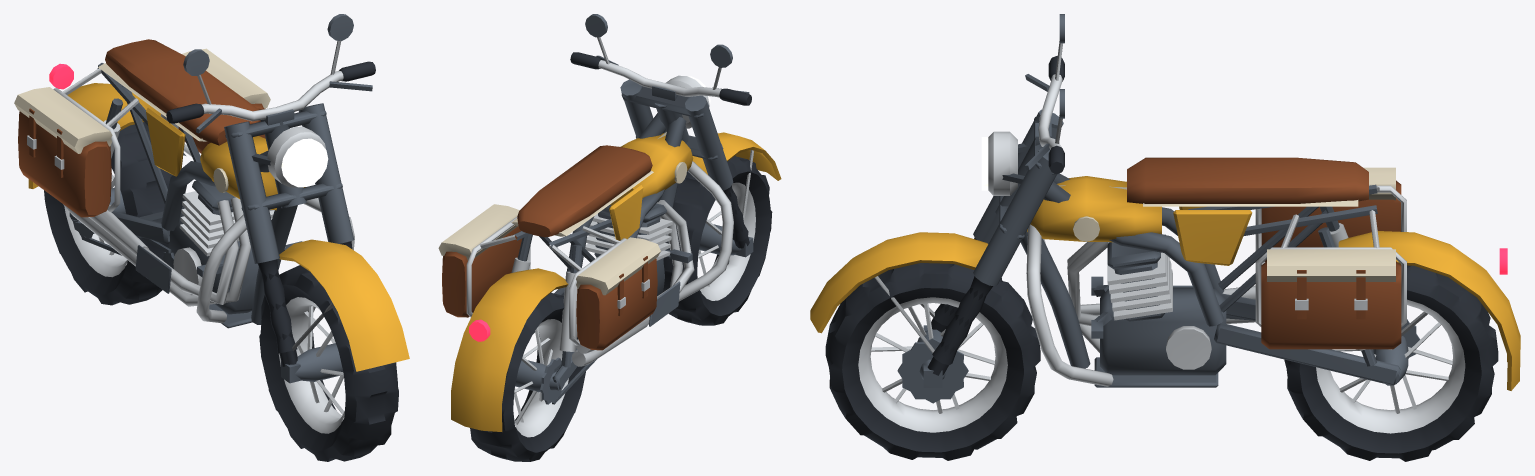
Rendered from moto-scrambler.glb.
3 renders of one model, left to right at view 1: azimuth 30°, elevation 25°; view 2: azimuth 150°, elevation 25°; view 3: azimuth 270°, elevation 25°, orthographic. The views are drawn at different scales.
Parts seen in each view (by area): view 1: Scrambler Gunmetal, Scrambler Chrome alloy, Scrambler Reef gold, Scrambler Saddle leather, Front wheel Trail rubber, Rear wheel Trail rubber, Scrambler Rally ivory, Front wheel Chrome alloy, Scrambler Trail rubber, Scrambler Headlamp glow, Rear wheel Chrome alloy, Front wheel Gunmetal (+2 smaller); view 2: Scrambler Saddle leather, Scrambler Reef gold, Scrambler Gunmetal, Scrambler Chrome alloy, Front wheel Trail rubber, Rear wheel Trail rubber, Scrambler Rally ivory, Rear wheel Chrome alloy, Front wheel Chrome alloy, Scrambler Trail rubber, Rear wheel Gunmetal, Front wheel Gunmetal (+1 smaller); view 3: Scrambler Gunmetal, Scrambler Saddle leather, Scrambler Reef gold, Front wheel Trail rubber, Scrambler Chrome alloy, Rear wheel Trail rubber, Front wheel Chrome alloy, Scrambler Rally ivory, Rear wheel Chrome alloy, Scrambler Trail rubber, Front wheel Gunmetal, Rear wheel Gunmetal.
Part boxes in pixels (x1=…): Scrambler Gunmetal: x1=70, y1=14, x2=372, y2=383; Scrambler Chrome alloy: x1=27, y1=40, x2=354, y2=351; Scrambler Reef gold: x1=28, y1=83, x2=409, y2=371; Scrambler Saddle leather: x1=18, y1=39, x2=265, y2=217; Front wheel Trail rubber: x1=259, y1=265, x2=398, y2=461; Rear wheel Trail rubber: x1=44, y1=122, x2=182, y2=305; Scrambler Rally ivory: x1=14, y1=48, x2=270, y2=192; Front wheel Chrome alloy: x1=278, y1=297, x2=344, y2=433; Scrambler Trail rubber: x1=166, y1=61, x2=375, y2=366; Scrambler Headlamp glow: x1=281, y1=138, x2=328, y2=187; Rear wheel Chrome alloy: x1=64, y1=174, x2=127, y2=277; Front wheel Gunmetal: x1=295, y1=343, x2=343, y2=381; Scrambler Saddle leather: x1=442, y1=145, x2=657, y2=350; Scrambler Reef gold: x1=451, y1=132, x2=781, y2=431; Scrambler Gunmetal: x1=512, y1=14, x2=753, y2=404; Scrambler Chrome alloy: x1=466, y1=37, x2=753, y2=366; Front wheel Trail rubber: x1=663, y1=155, x2=772, y2=325; Rear wheel Trail rubber: x1=470, y1=292, x2=585, y2=461; Scrambler Rally ivory: x1=438, y1=132, x2=687, y2=295; Rear wheel Chrome alloy: x1=514, y1=319, x2=568, y2=437; Front wheel Chrome alloy: x1=698, y1=182, x2=755, y2=300; Scrambler Trail rubber: x1=570, y1=52, x2=751, y2=248; Rear wheel Gunmetal: x1=515, y1=357, x2=564, y2=404; Front wheel Gunmetal: x1=699, y1=223, x2=741, y2=255; Scrambler Gunmetal: x1=923, y1=14, x2=1400, y2=387; Scrambler Saddle leather: x1=1127, y1=157, x2=1401, y2=349; Scrambler Reef gold: x1=810, y1=176, x2=1520, y2=390; Front wheel Trail rubber: x1=825, y1=263, x2=1040, y2=460; Scrambler Chrome alloy: x1=874, y1=41, x2=1406, y2=386; Rear wheel Trail rubber: x1=1284, y1=265, x2=1498, y2=461; Front wheel Chrome alloy: x1=858, y1=297, x2=1007, y2=432; Scrambler Rally ivory: x1=1059, y1=167, x2=1395, y2=281; Rear wheel Chrome alloy: x1=1316, y1=299, x2=1465, y2=433; Scrambler Trail rubber: x1=927, y1=56, x2=1064, y2=375; Front wheel Gunmetal: x1=897, y1=329, x2=968, y2=403; Rear wheel Gunmetal: x1=1373, y1=319, x2=1419, y2=385.
Size of the model in its own units: 0.93 by 1.64 by 2.64.
